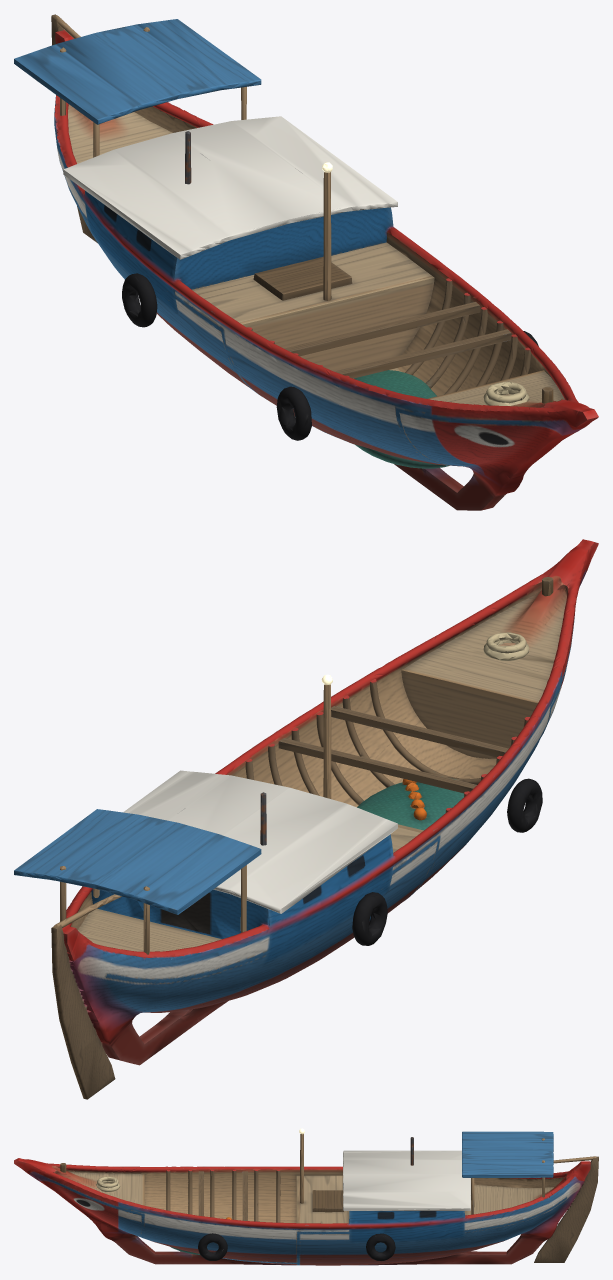
The model's file is ghe_danh_ca_vung_tau.glb.
3 renders of one model, top to bottom at view 1: azimuth 30°, elevation 25°; view 2: azimuth 150°, elevation 25°; view 3: azimuth 270°, elevation 25°, orthographic. The views are drawn at different scales.
Visible parts, largest first — view 1: ghe_danh_ca_vung_tau; view 2: ghe_danh_ca_vung_tau; view 3: ghe_danh_ca_vung_tau.
Part boxes in pixels (x1,y1,x2,y2): ghe_danh_ca_vung_tau: [14, 14, 598, 510]; ghe_danh_ca_vung_tau: [14, 539, 598, 1099]; ghe_danh_ca_vung_tau: [14, 1128, 598, 1265].
Bounding box in the file's own units: 2.92 × 2.84 × 11.15.
1 material, 1 textured.
